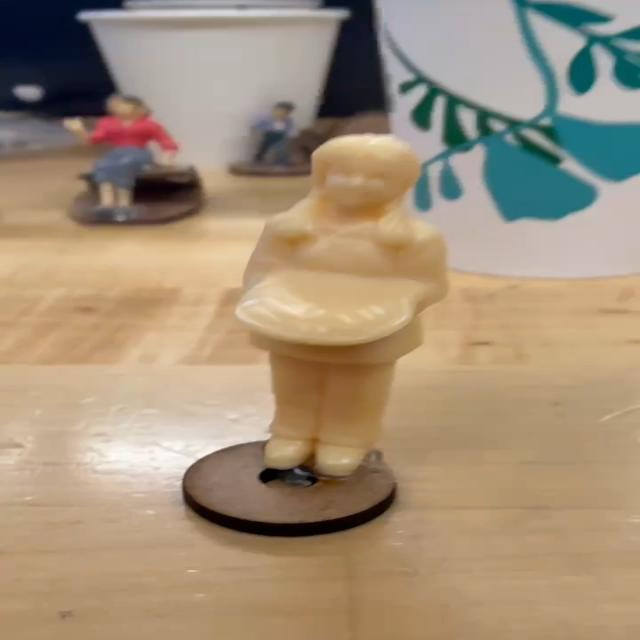Unauthorized: (236, 135, 453, 478)
